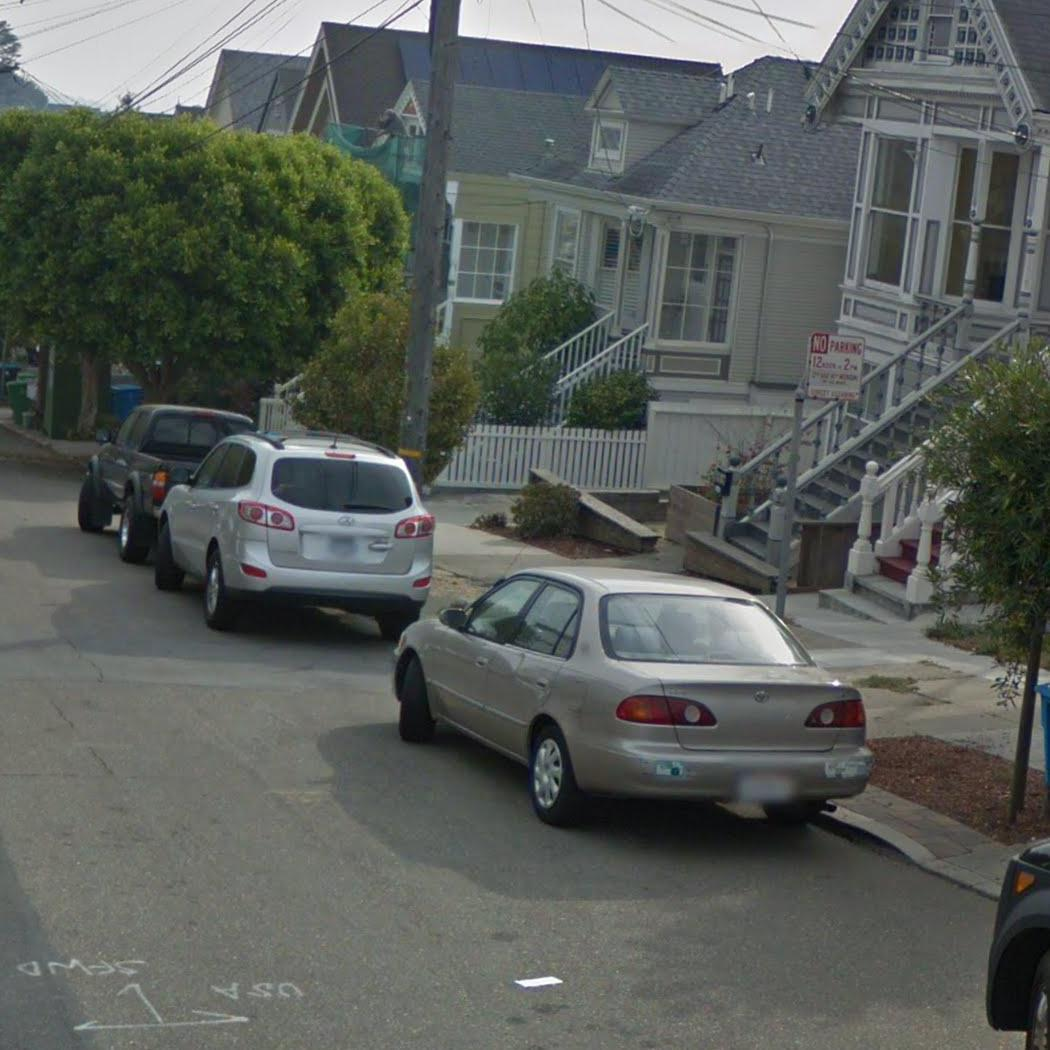No Parking: (804, 330, 872, 406)
